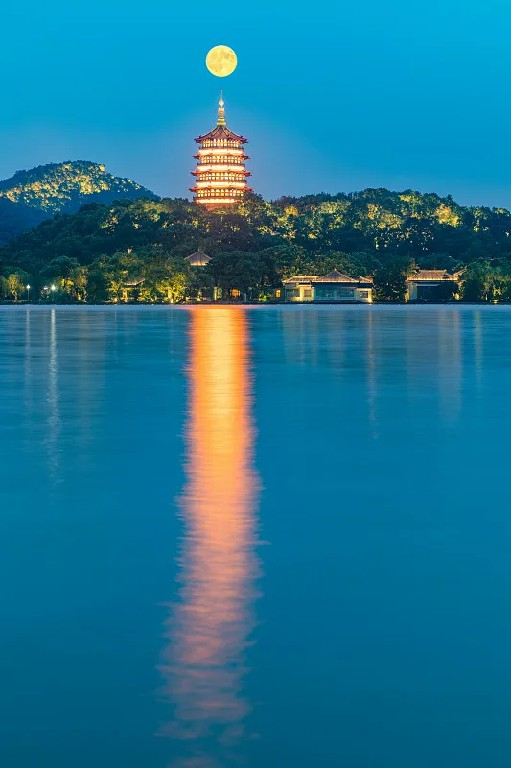Leifeng: (189, 90, 255, 213)
